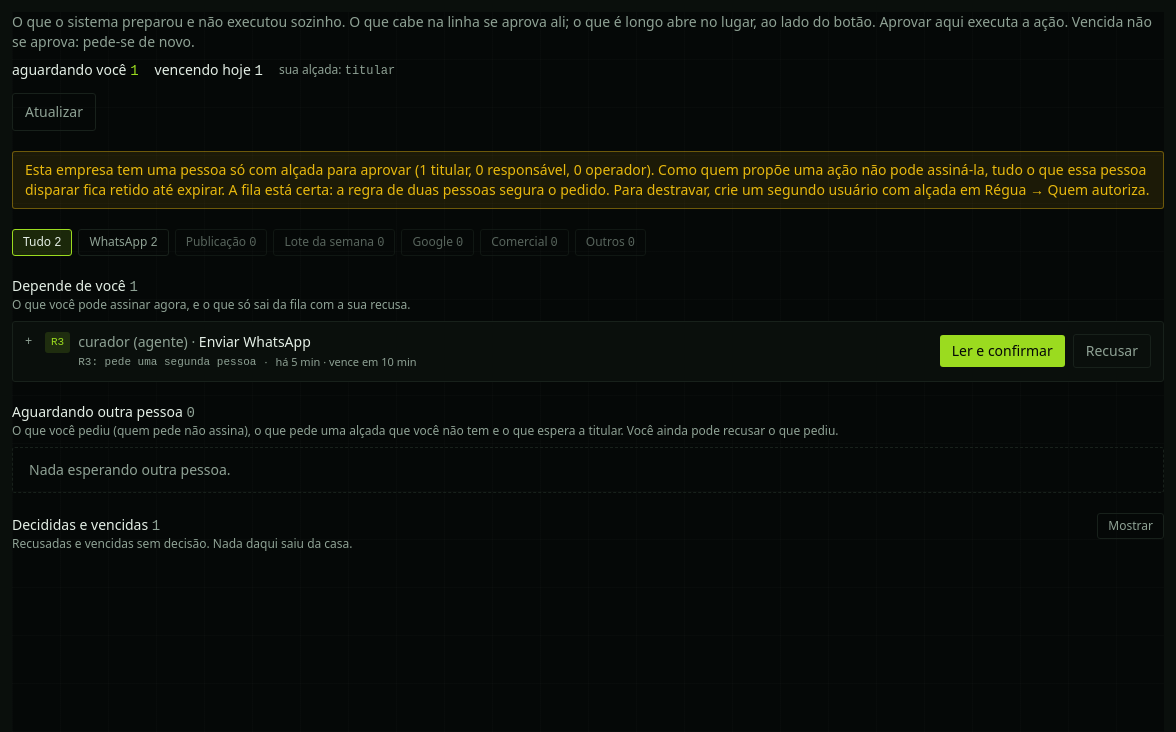
a fila mostra o que quem assina precisa ler › separa o que espera do que já foi recusado
Expected: the element with test id "aprov-item-ap-agente" is shown, x1=12 y1=321 x2=1164 y2=382
Click the button with test id "aprov-historico-alternar" at {"x": 1131, "y": 526}, box x1=1097 y1=512 x2=1164 y2=538
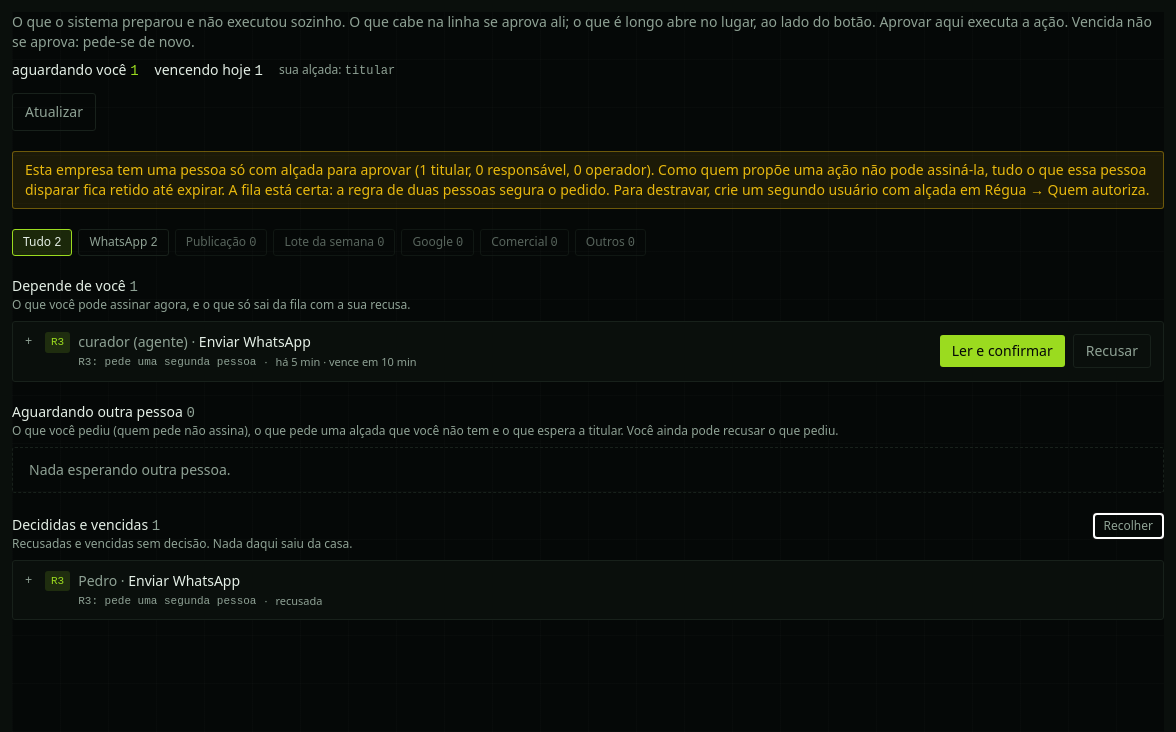
Expected: the element with test id "aprov-item-ap-no" shows "recusada"
Click the button that starts with "Pedro" at {"x": 98, "y": 580}, box x1=25 y1=570 x2=1151 y2=609
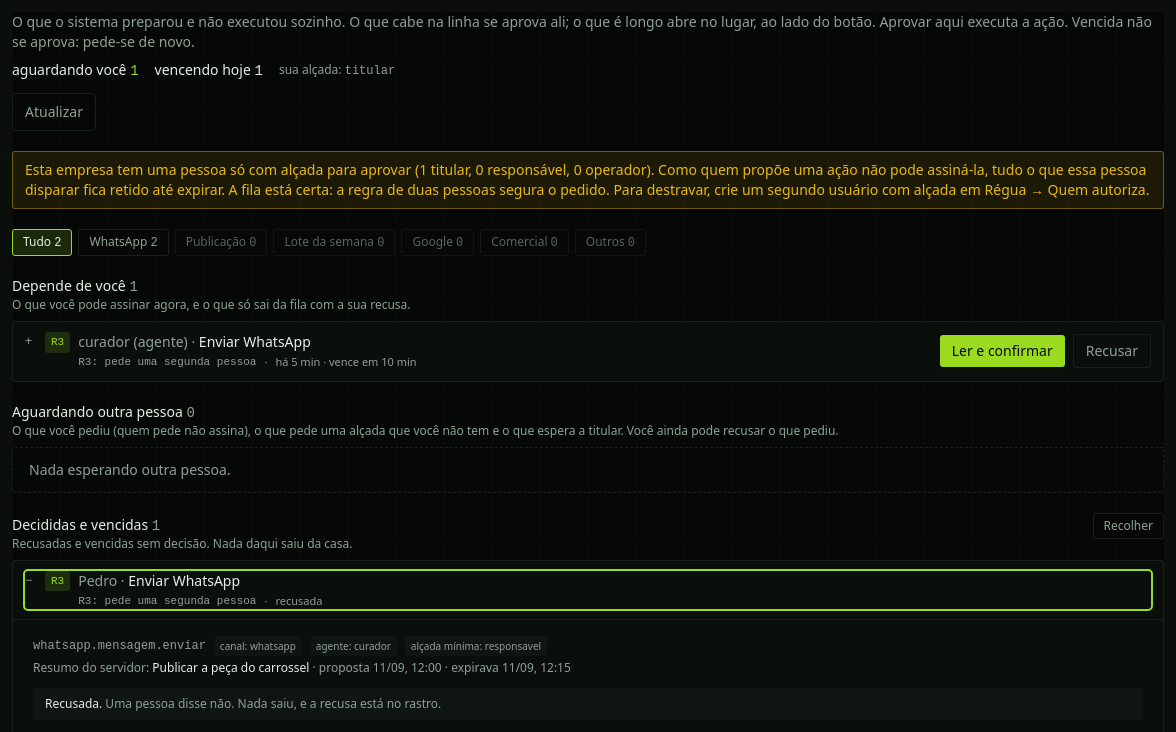
Expected: the text "Recusada." is shown, x1=45 y1=695 x2=102 y2=712
